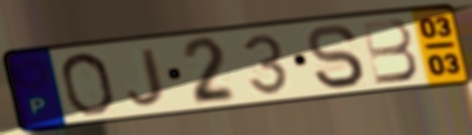2: (180, 34, 240, 109)
3: (236, 31, 292, 97)
B: (358, 16, 422, 87)
J: (125, 45, 167, 108)
O: (57, 49, 117, 118)
S: (304, 22, 368, 91)
